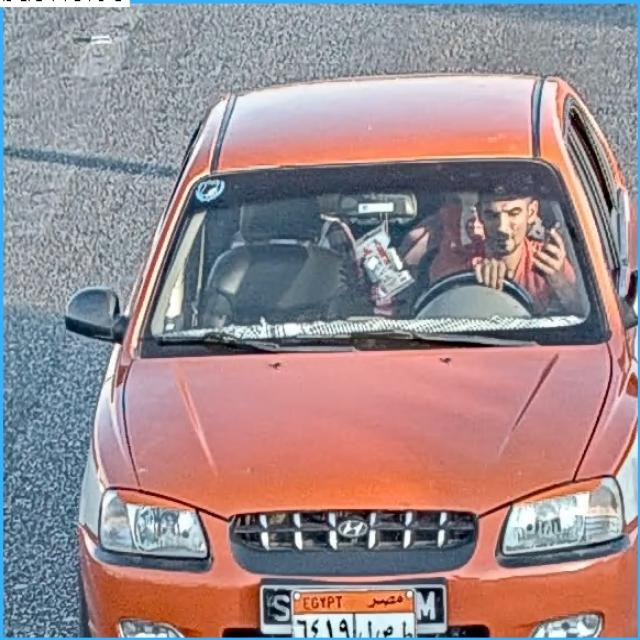windshield: (138, 168, 588, 330)
